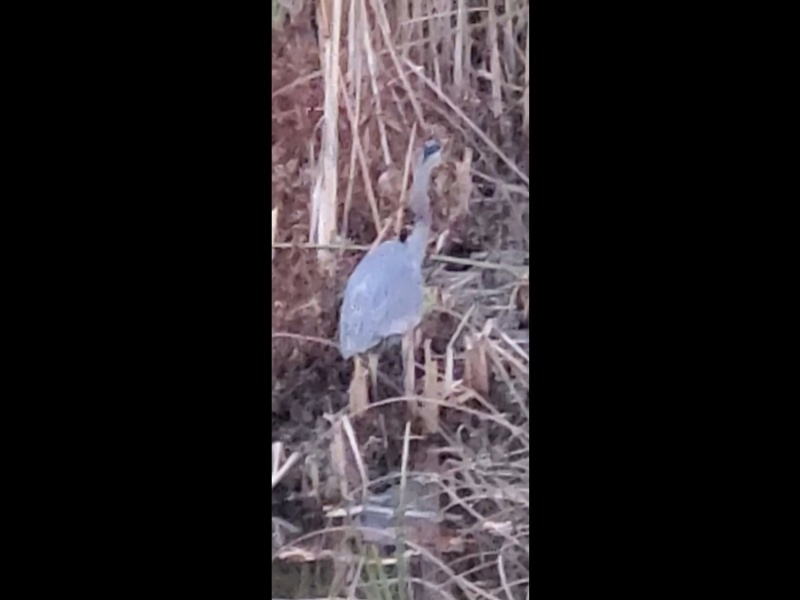heron: (337, 138, 447, 392)
